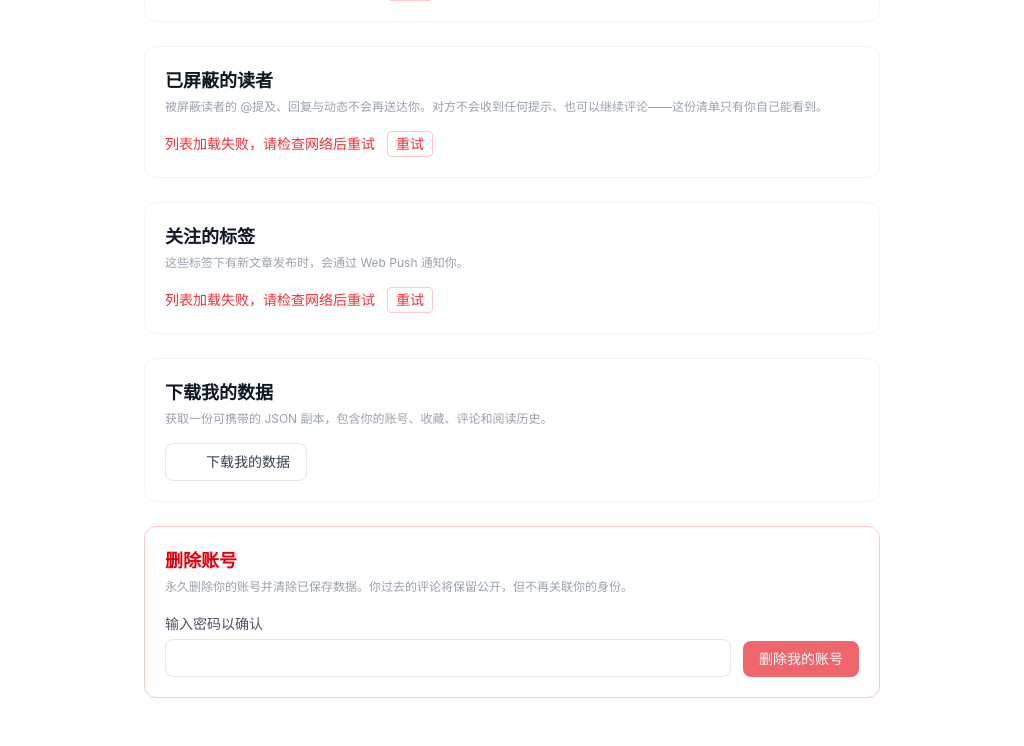
Account settings page › delete account (DEC-106, TASK-165) › shows a wrong-password error when deletion is rejected 401
(page scrolled)
Type "nope" into the password field labelled "输入密码以确认". click: x=448, y=658
box: [165, 639, 731, 677]
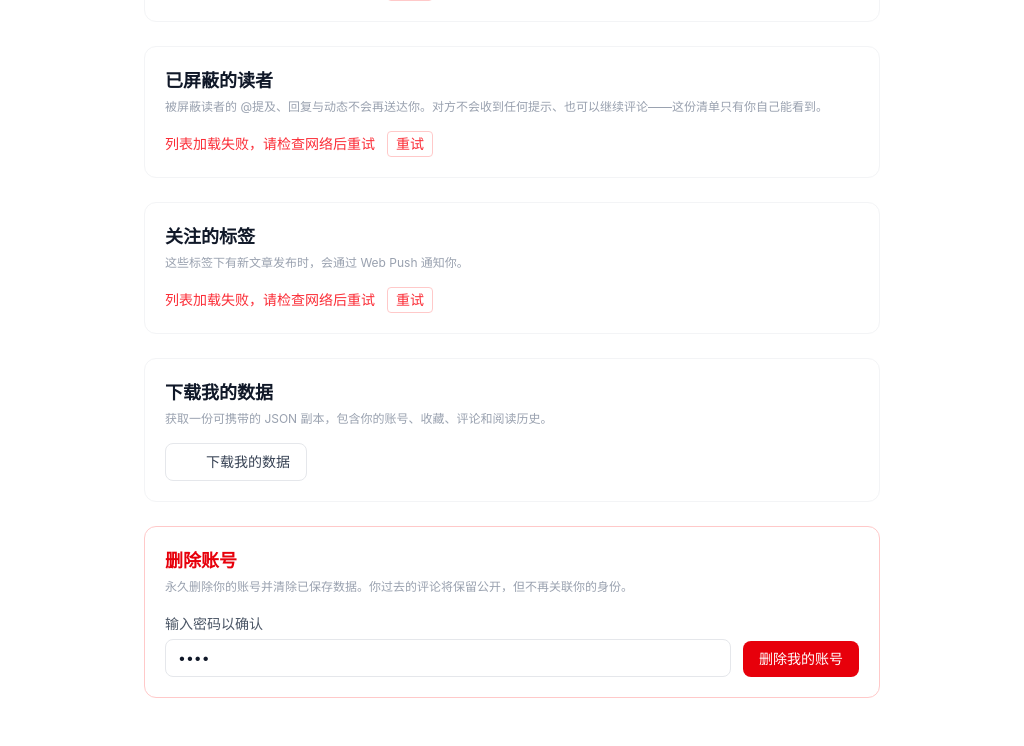
Submit the form, box [165, 611, 859, 677]
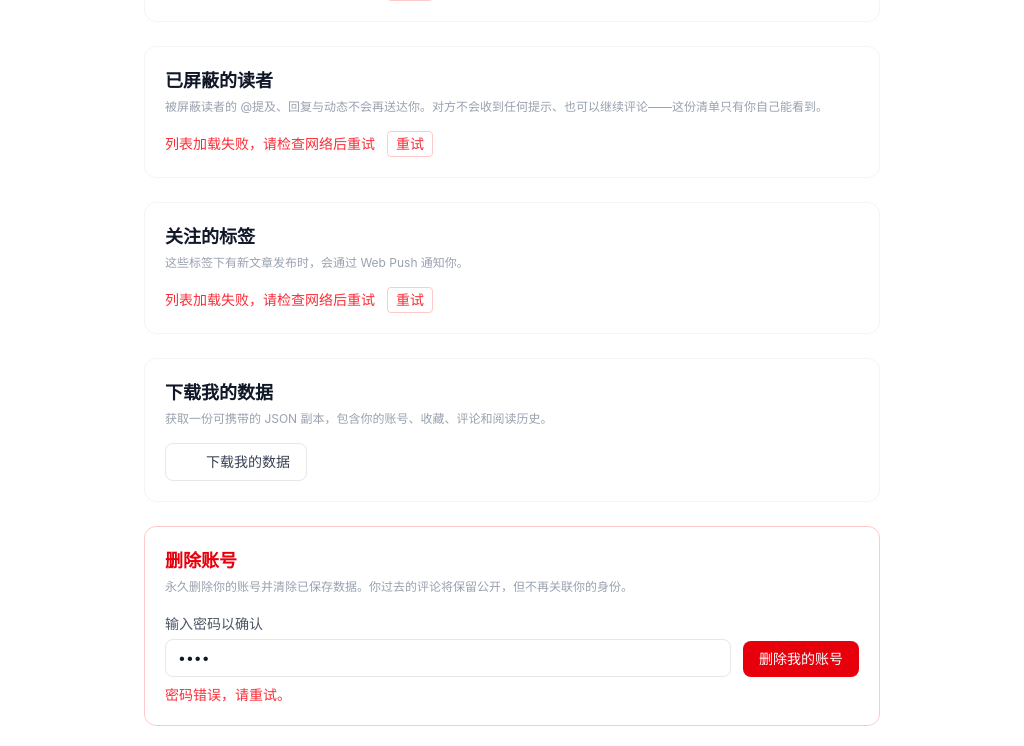
Expected: the text "密码错误" is shown, [165, 686, 291, 703]
